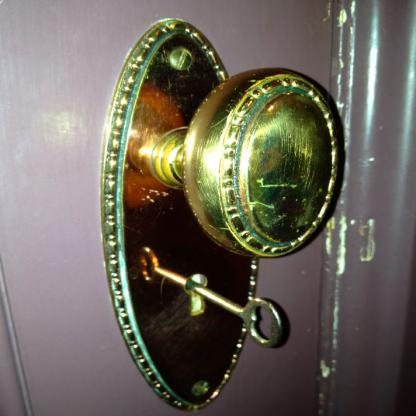door: (0, 0, 345, 415)
knob: (174, 64, 352, 258)
